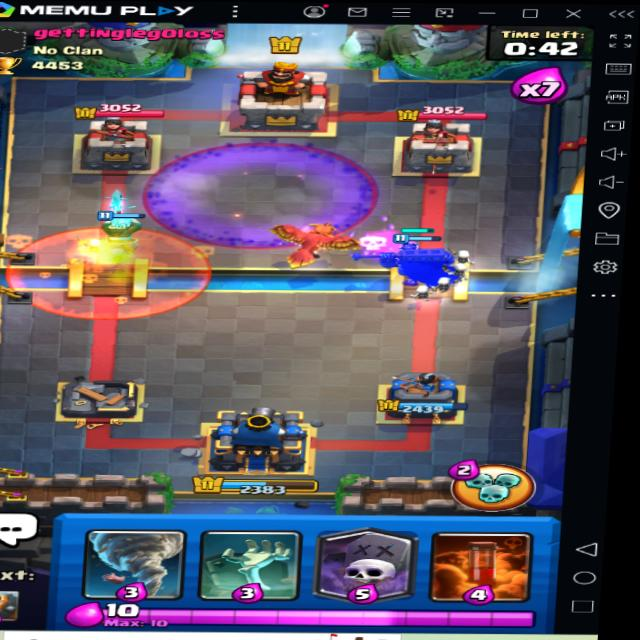graveyard: (144, 130, 387, 253)
poison: (9, 215, 212, 321)
